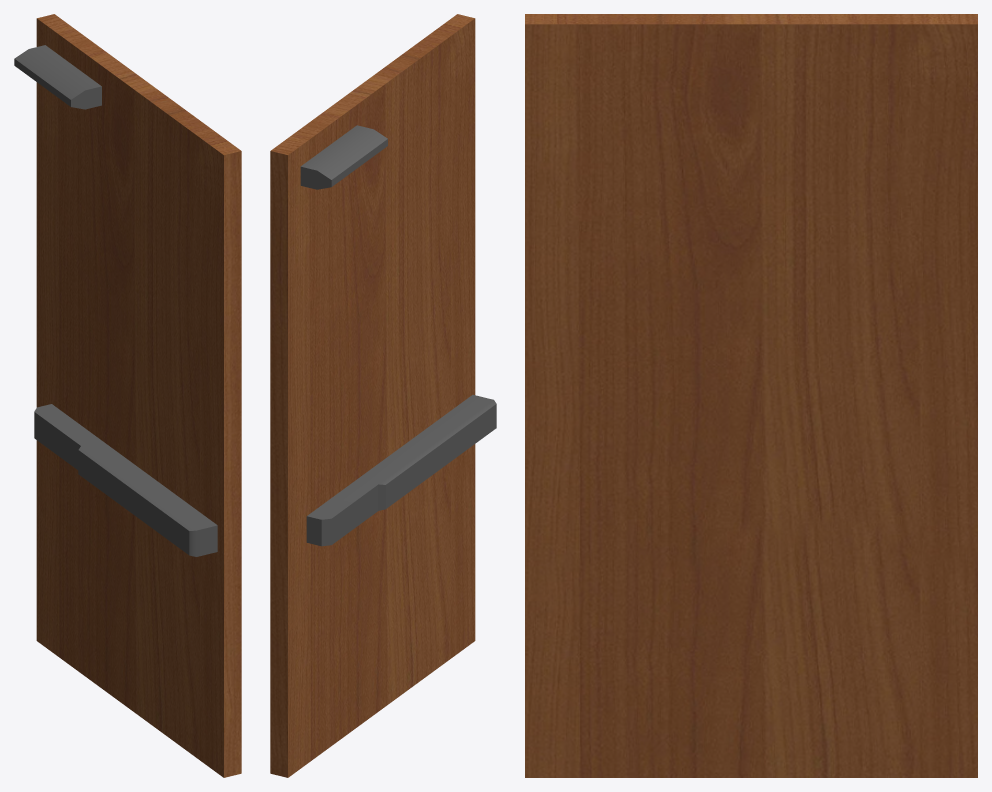
Rendered from GYM_BLUE_Door.fbx.
The picture shows the model from 3 angles, left to right: view 1: azimuth 30°, elevation 25°; view 2: azimuth 150°, elevation 25°; view 3: azimuth 270°, elevation 25°; orthographic projection. The views are drawn at different scales.
Parts seen in each view (by area): view 1: GYM_Blue_Door; view 2: GYM_Blue_Door; view 3: GYM_Blue_Door.
Part boxes in pixels (<box>): GYM_Blue_Door: <box>14,14,241,777</box>; GYM_Blue_Door: <box>270,14,496,777</box>; GYM_Blue_Door: <box>525,14,977,777</box>.
Bounding box in the file's own units: 0.2468 × 2.9 × 1.58.
Materials: 2 (1 with a texture image).
